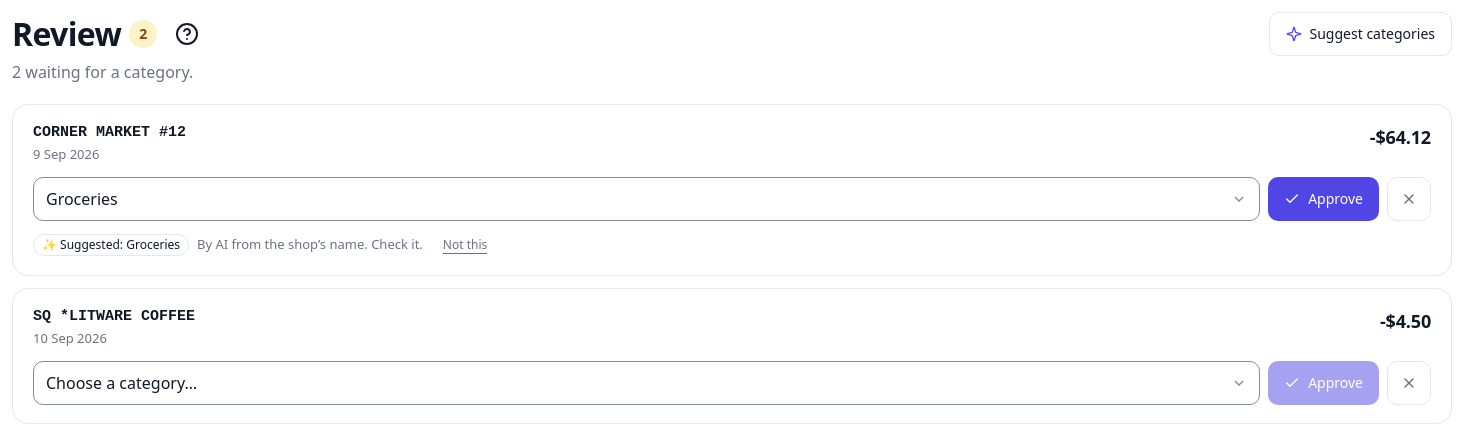
Test case: Review shows suggested categories › keeps a suggestion gone when a read begun before Not this lands after it (FE-8)
Select "Coffee" in the dropdown named "Category" below "10 Sep 2026": (647, 383) x1=33 y1=361 x2=1260 y2=405
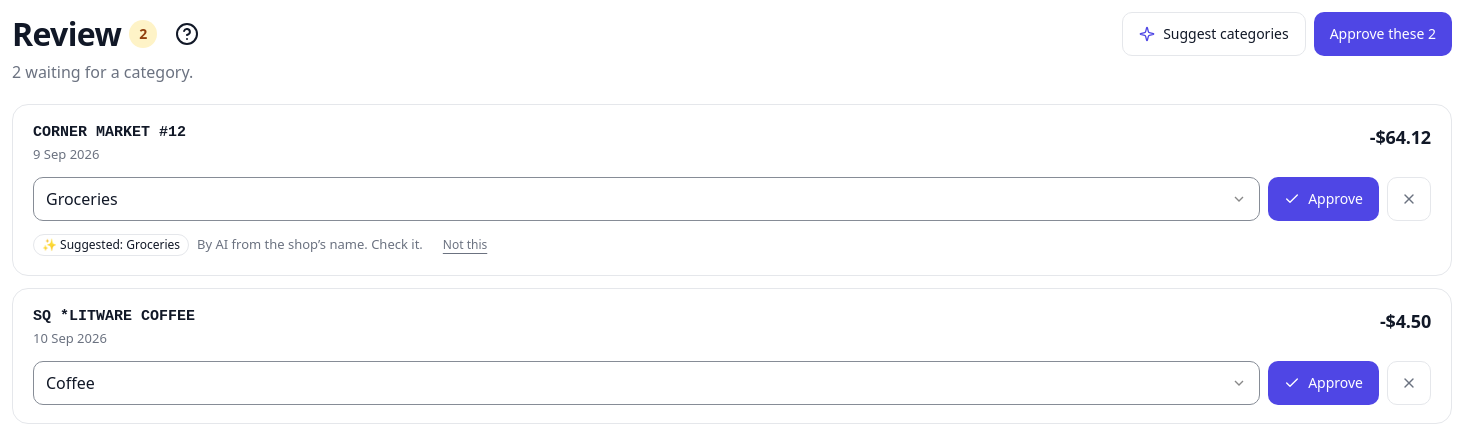
Click the button "Approve" below "-$4.50": (1324, 383) x1=1268 y1=361 x2=1379 y2=405
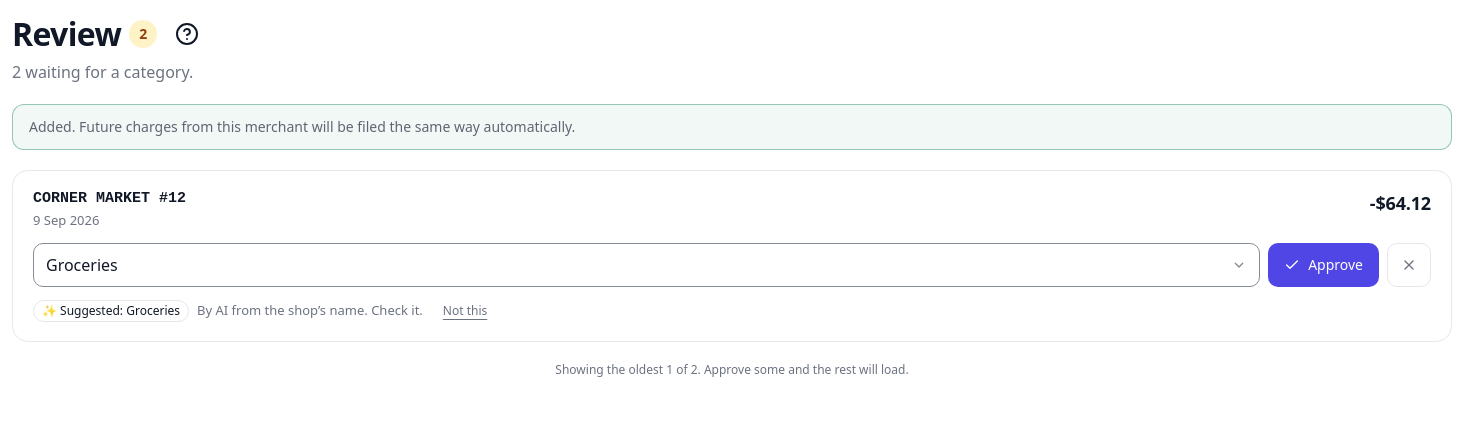
Click the button "Not this": (465, 311) x1=431 y1=295 x2=499 y2=327
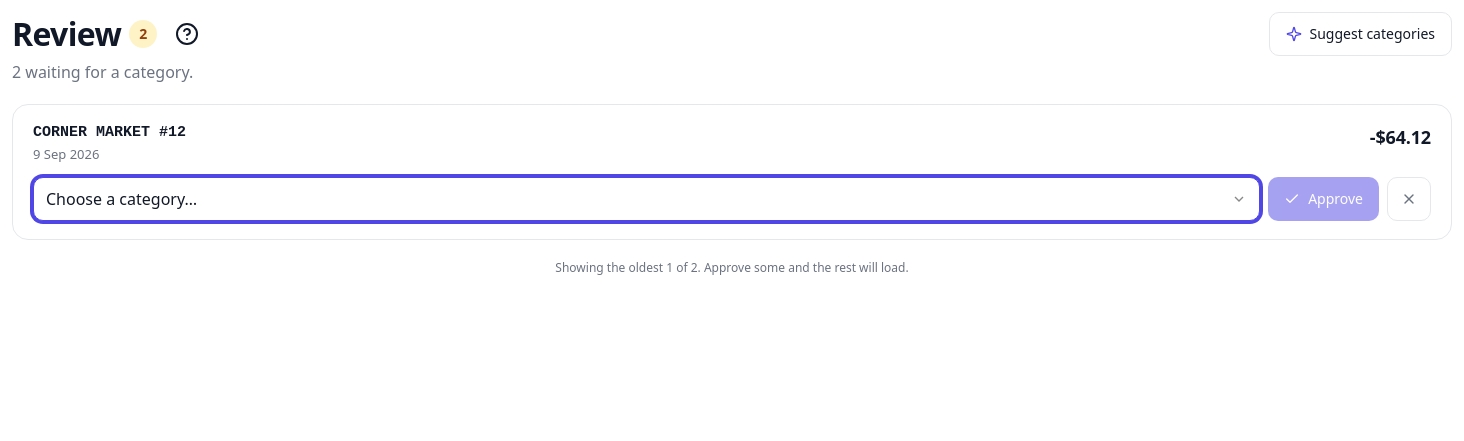
Check: the dropdown named "Category" shows "Choose a category…", box x1=33 y1=177 x2=1260 y2=221
Check: the text "Suggested:" is gone
